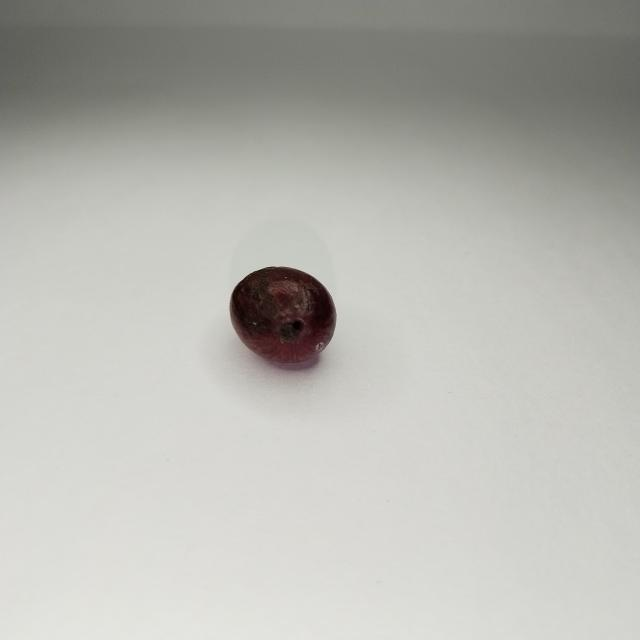Infectado: (230, 267, 334, 361)
